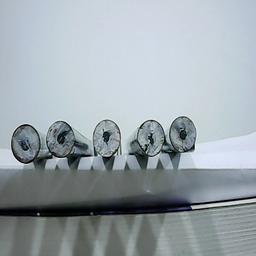pen: (91, 118, 123, 159), (10, 121, 41, 163), (44, 118, 76, 158), (168, 115, 198, 154), (137, 118, 165, 157)
